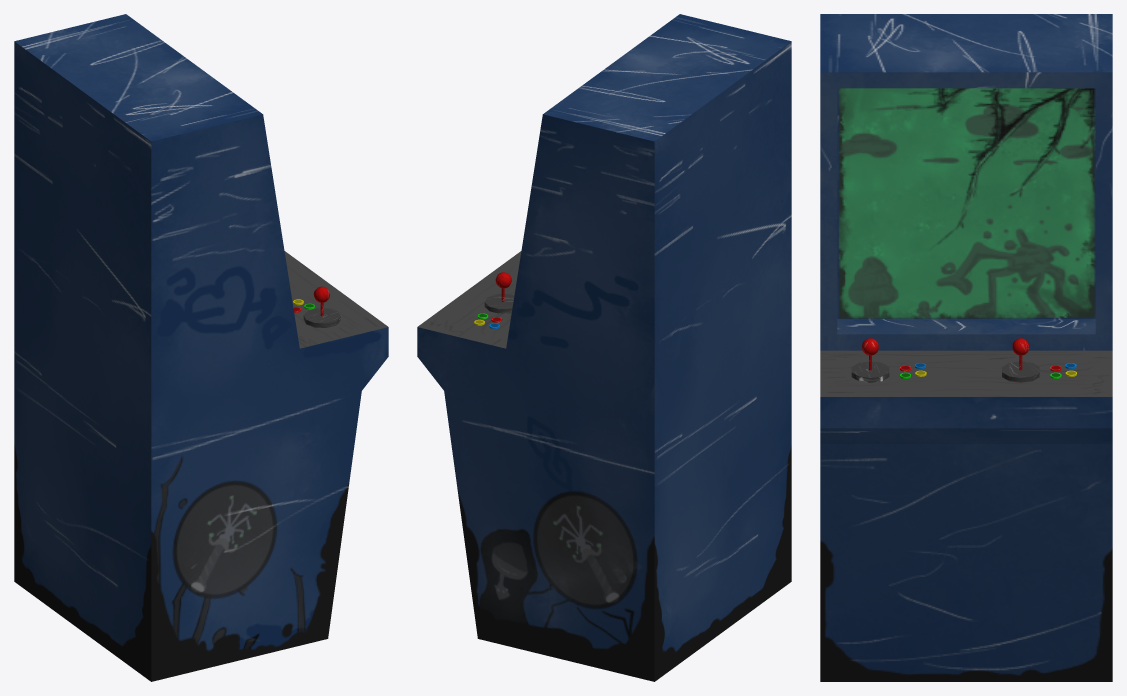
The model's file is ArcadeFinal2.fbx.
The picture shows the model from 3 angles, left to right: view 1: azimuth 30°, elevation 25°; view 2: azimuth 150°, elevation 25°; view 3: azimuth 270°, elevation 25°; orthographic projection. The views are drawn at different scales.
Visible parts, largest first — view 1: polySurface2; view 2: polySurface2; view 3: polySurface2.
Boxes of the visible parts, <box> form: polySurface2: <box>14,14,388,681</box>; polySurface2: <box>417,14,791,681</box>; polySurface2: <box>820,14,1112,681</box>.
Bounding box in the file's own units: 100 × 218 × 100.
